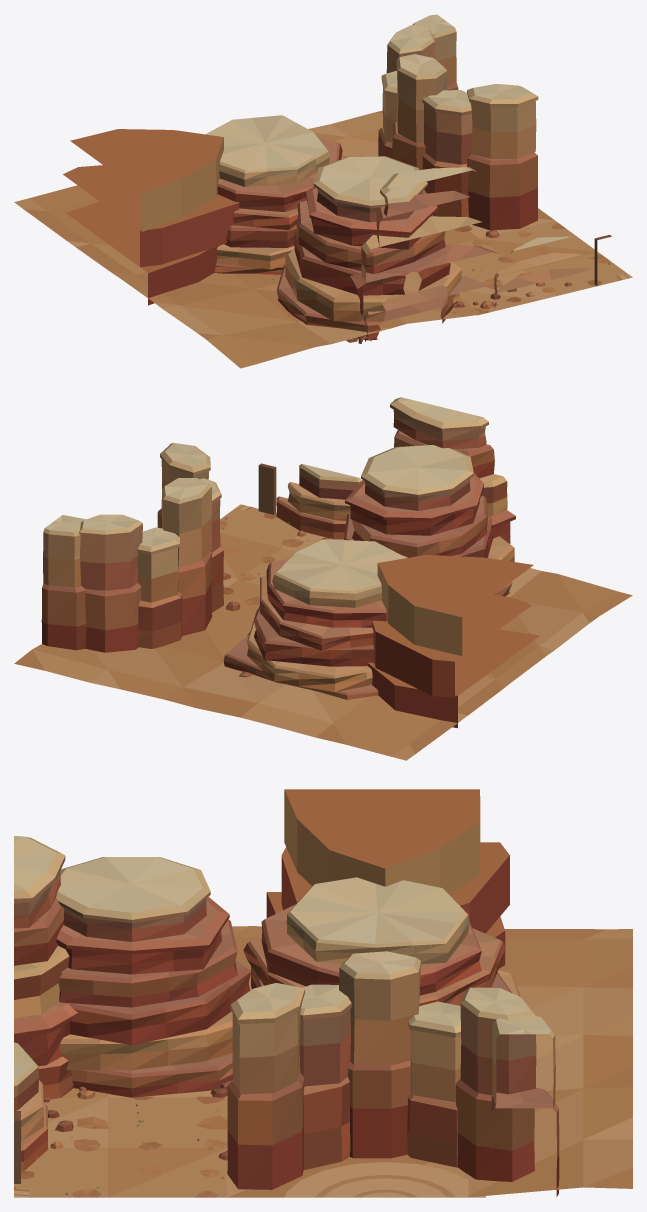
3 views of the same model, one above another, from view 1: azimuth 30°, elevation 25°; view 2: azimuth 150°, elevation 25°; view 3: azimuth 270°, elevation 25° (orthographic). The views are drawn at different scales.
Parts seen in each view (by area): view 1: baked; view 2: baked; view 3: baked.
Part boxes in pixels (x1=…): baked: x1=14, y1=14, x2=632, y2=368; baked: x1=14, y1=397, x2=632, y2=760; baked: x1=14, y1=789, x2=632, y2=1197.
Bounding box in the file's own units: 62.5 × 22.32 × 62.5.
